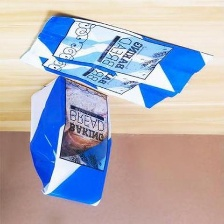snack: (11, 9, 218, 114), (23, 70, 115, 212)
